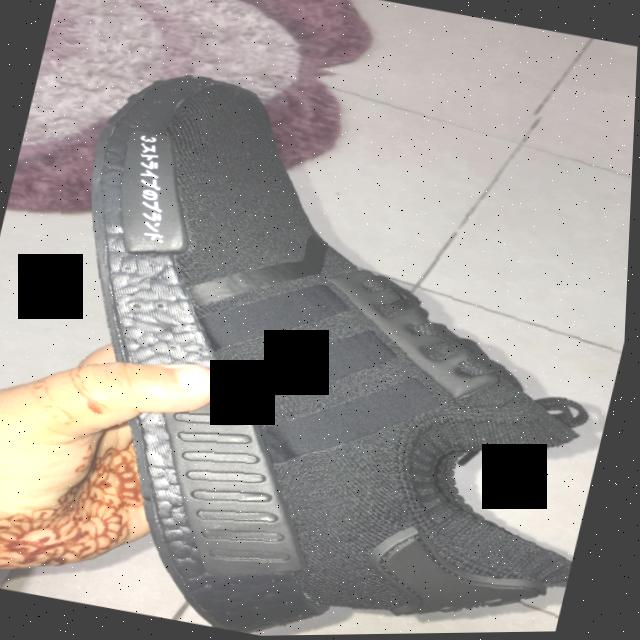shoe: (0, 7, 640, 640)
